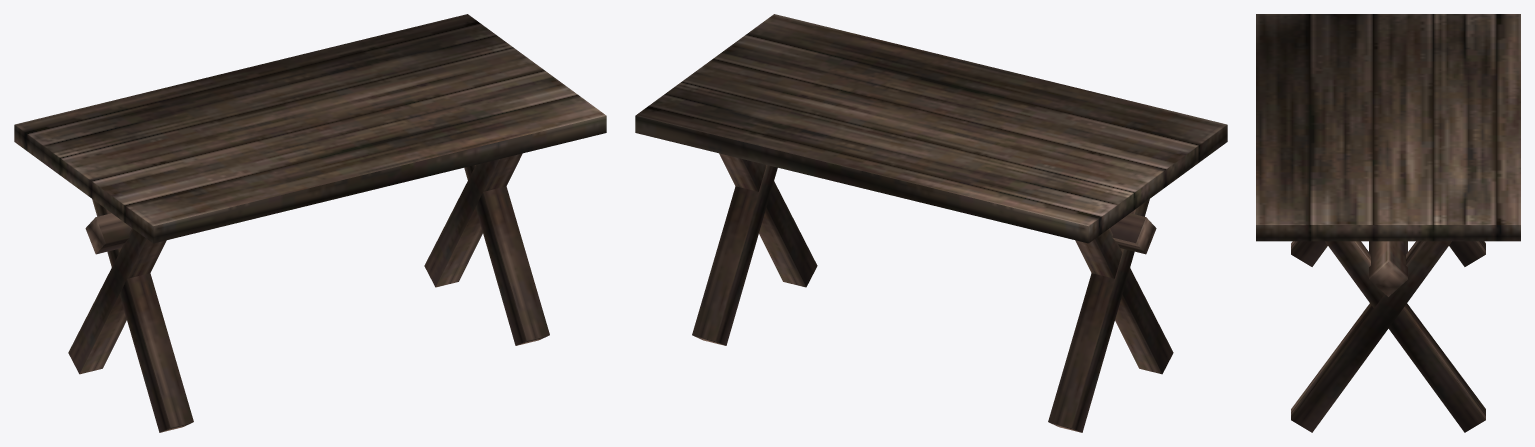
Rendered from stst99.dae.
3 views of the same model, side by side, from view 1: azimuth 30°, elevation 25°; view 2: azimuth 150°, elevation 25°; view 3: azimuth 270°, elevation 25° (orthographic). The views are drawn at different scales.
Parts seen in each view (by area): view 1: table; view 2: table; view 3: table.
Part boxes in pixels (box(x1,y1,x2,y2)): table: box(14, 14, 606, 432); table: box(635, 14, 1227, 432); table: box(1256, 14, 1520, 432).
Bounding box in the file's own units: 2.12 × 1.13 × 1.06.
1 material, 1 textured.
